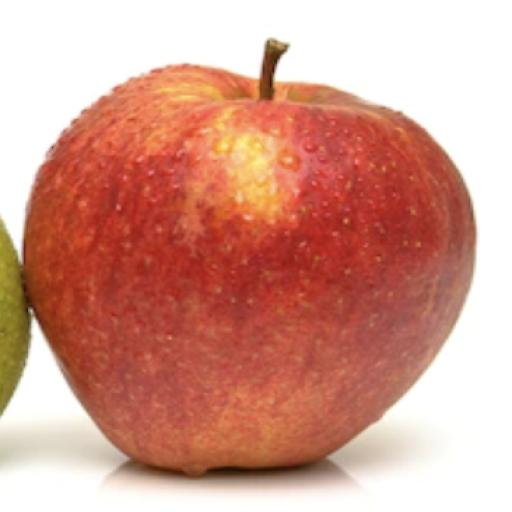apple: (24, 41, 475, 474)
